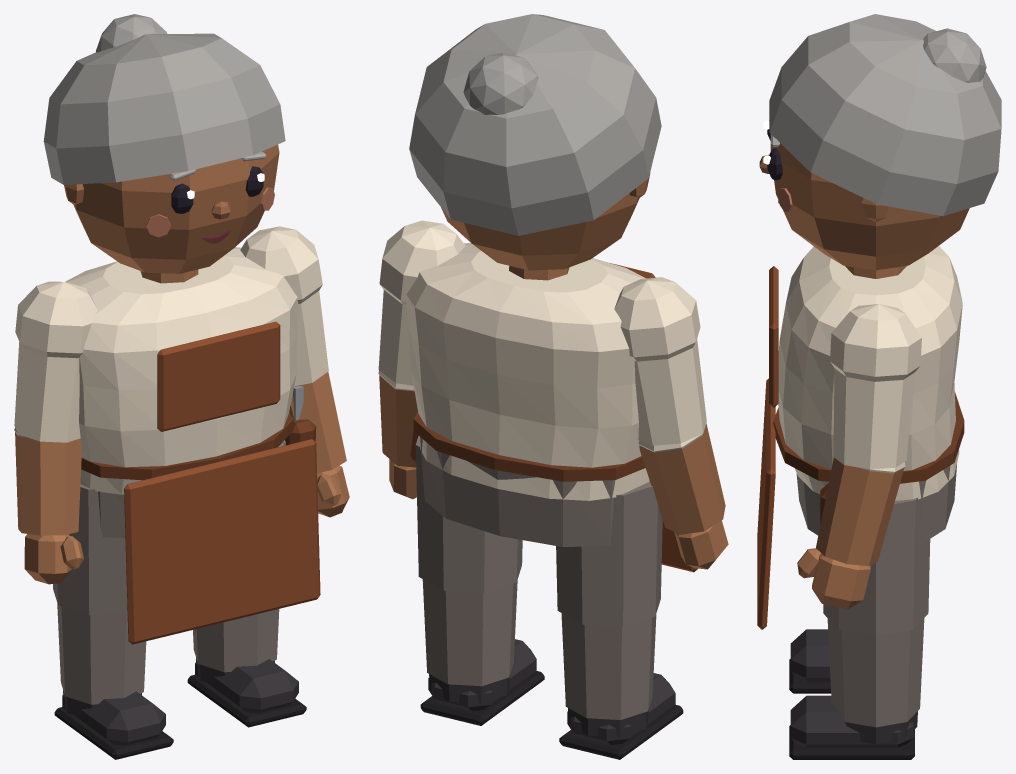
Rendered from emb-n2.glb.
The picture shows the model from 3 angles, left to right: view 1: azimuth 30°, elevation 25°; view 2: azimuth 150°, elevation 25°; view 3: azimuth 270°, elevation 25°; orthographic projection. The views are drawn at different scales.
Visible parts, largest first — view 1: schürze, torso, haare, arm_r, kopf, bein_r, arm_l, schuh_r, schuh_l, bein_l, gesicht, hand_r (+3 smaller); view 2: torso, haare, bein_r, arm_r, bein_l, becken, arm_l, kopf, schürze, schuh_r, schuh_l, hand_r (+1 smaller); view 3: haare, torso, arm_l, bein_l, kopf, schürze, schuh_l, hand_l, becken, schuh_r, gesicht, hals.
Part boxes in pixels (box(x1,y1,x2,y2)): schürze: box(81, 321, 320, 644); torso: box(65, 247, 298, 494); haare: box(43, 14, 285, 184); arm_r: box(14, 281, 97, 535); kopf: box(64, 144, 279, 273); bein_r: box(53, 484, 146, 704); arm_l: box(240, 226, 346, 473); schuh_r: box(54, 690, 173, 759); schuh_l: box(187, 658, 306, 727); bein_l: box(193, 441, 285, 672); gesicht: box(146, 151, 274, 243); hand_r: box(24, 534, 83, 584); torso: box(406, 242, 649, 500); haare: box(409, 14, 661, 235); bein_r: box(556, 481, 662, 719); arm_r: box(614, 277, 725, 534); bein_l: box(415, 436, 522, 686); becken: box(420, 437, 615, 546); arm_l: box(378, 220, 465, 467); kopf: box(441, 173, 650, 270); schürze: box(413, 263, 697, 572); schuh_r: box(559, 673, 683, 759); schuh_l: box(420, 639, 544, 725); hand_r: box(674, 520, 728, 569); haare: box(769, 14, 1001, 216); torso: box(778, 246, 962, 500); arm_l: box(816, 304, 921, 566); bein_l: box(823, 497, 930, 727); kopf: box(770, 143, 969, 270); schürze: box(757, 266, 964, 629); schuh_l: box(789, 695, 917, 759); hand_l: box(797, 548, 870, 609); becken: box(796, 464, 956, 545); schuh_r: box(789, 629, 830, 693); gesicht: box(759, 120, 792, 211); hals: box(845, 266, 906, 278).
Size of the model in its own units: 0.0112 by 0.022 by 0.00714.
